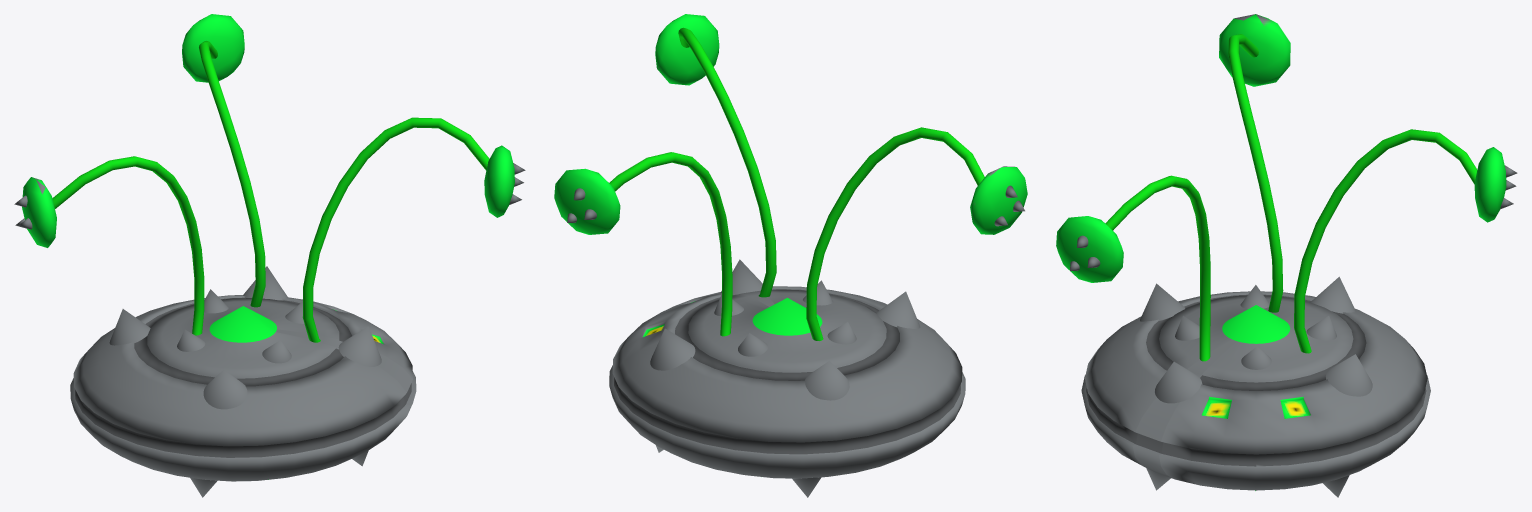
File: Ferrothorn.obj
The picture shows the model from 3 angles, left to right: view 1: azimuth 30°, elevation 25°; view 2: azimuth 150°, elevation 25°; view 3: azimuth 270°, elevation 25°; orthographic projection. The views are drawn at different scales.
Visible parts, largest first — view 1: LittleGuy; view 2: LittleGuy; view 3: LittleGuy.
Boxes of the visible parts, left/top/right/bottom form: LittleGuy: left=14, top=14, right=525, bottom=497; LittleGuy: left=554, top=14, right=1027, bottom=497; LittleGuy: left=1056, top=14, right=1517, bottom=497.
Size of the model in its own units: 3.83 by 2.96 by 3.42.
